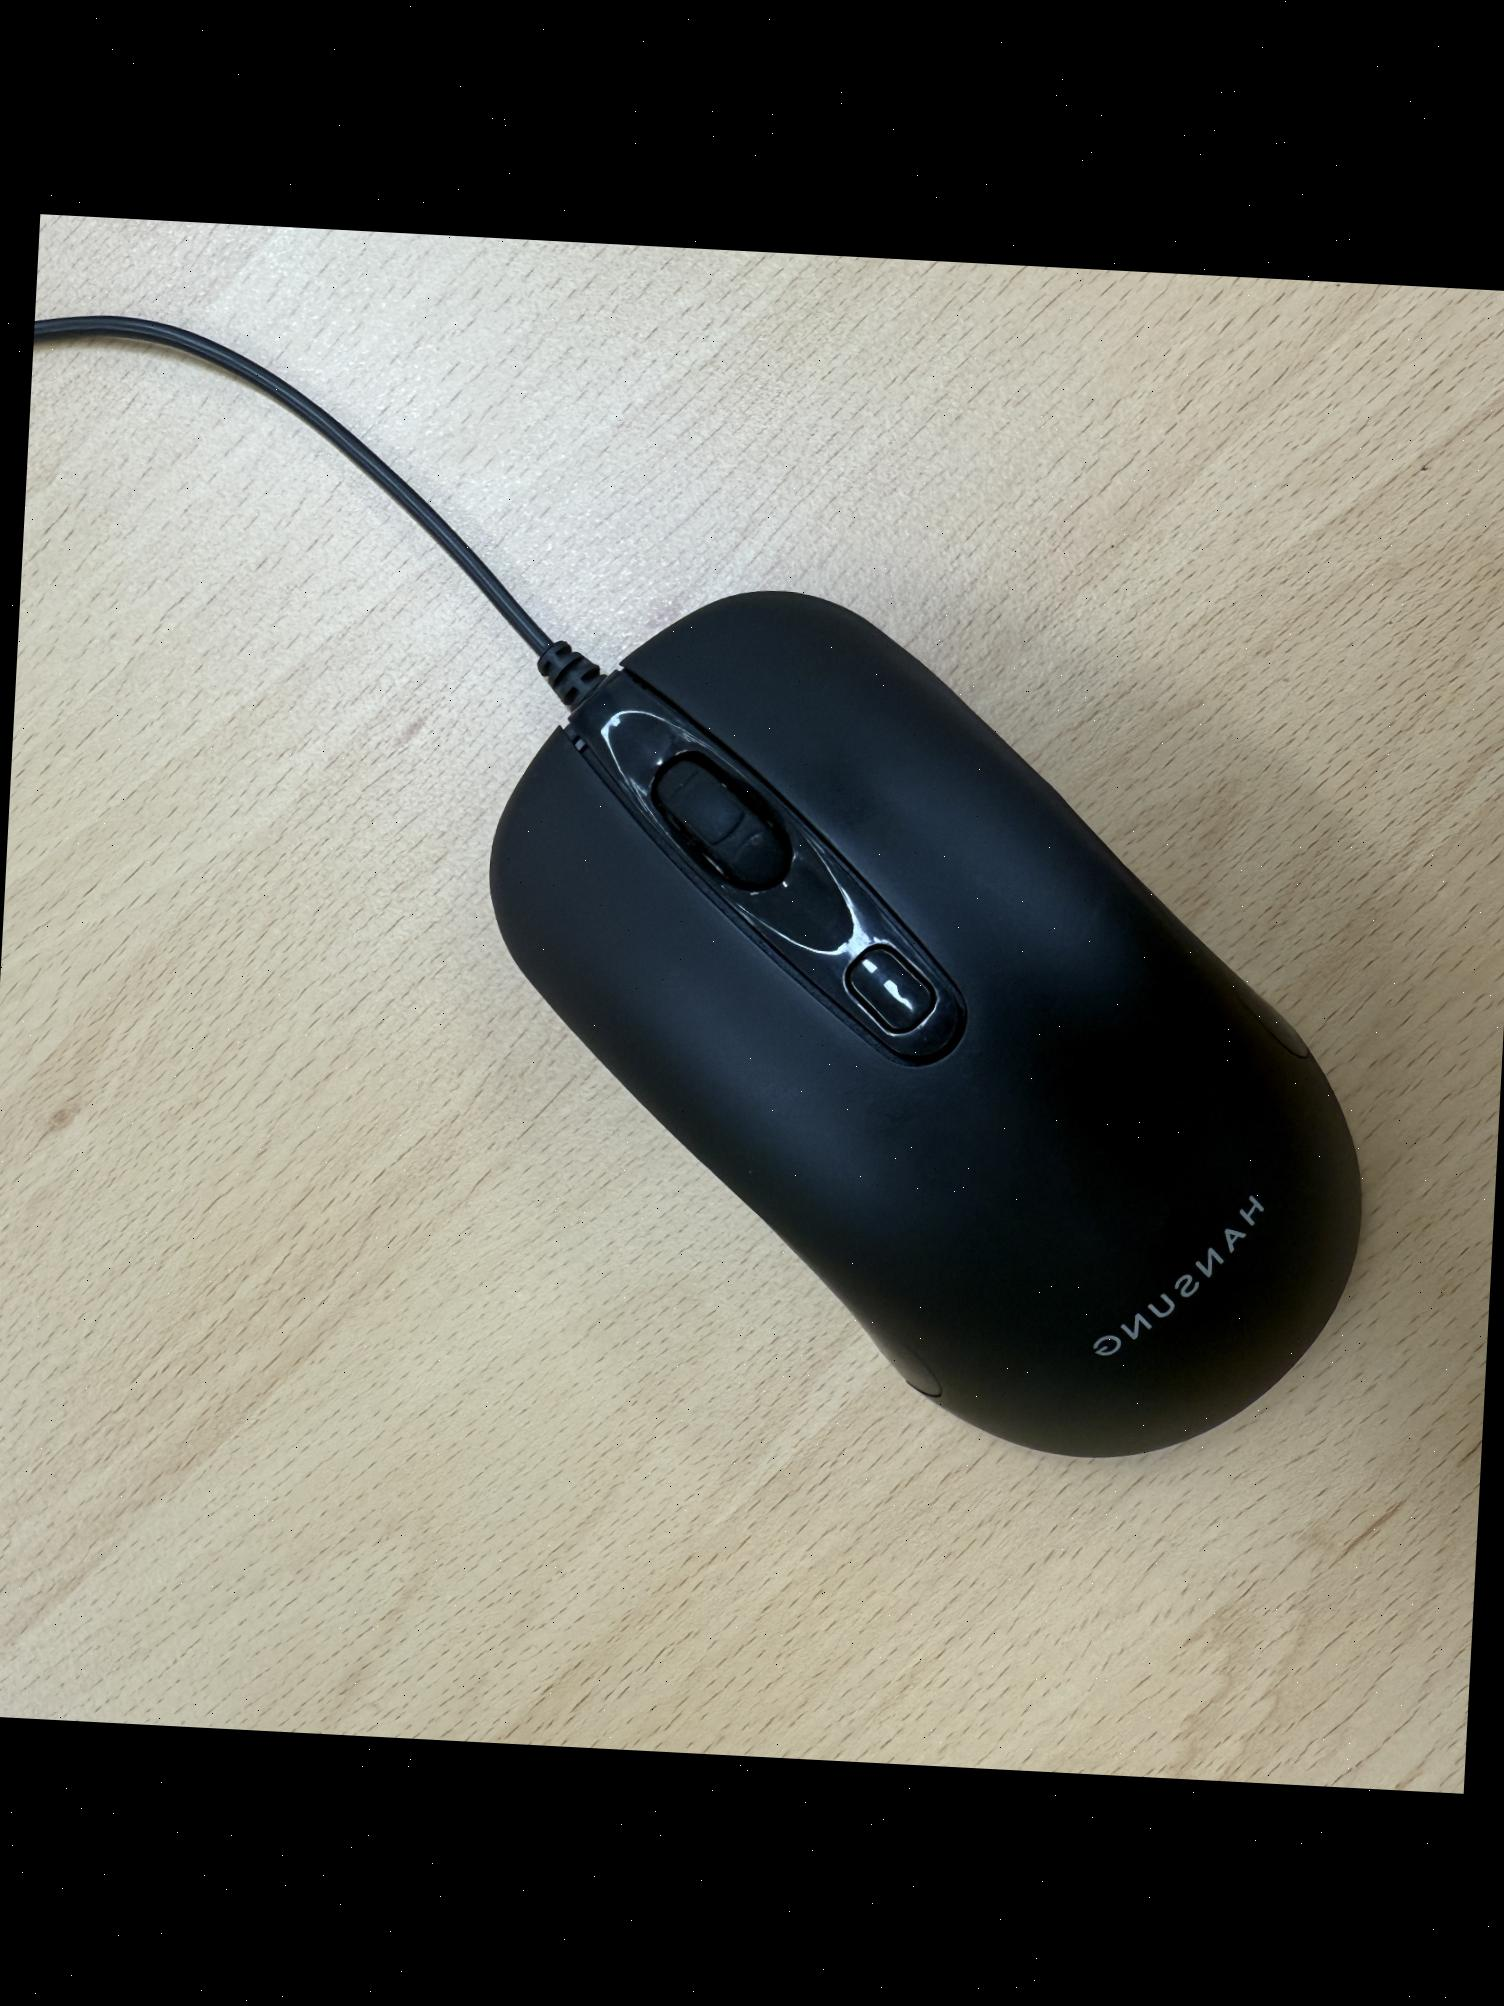front: (457, 570, 1400, 1477)
